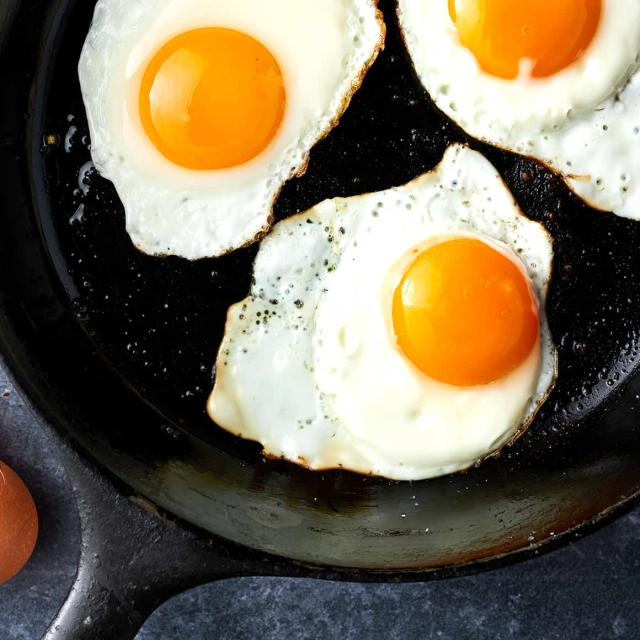Egg: (208, 144, 556, 480), (79, 0, 385, 259), (398, 0, 640, 219)
